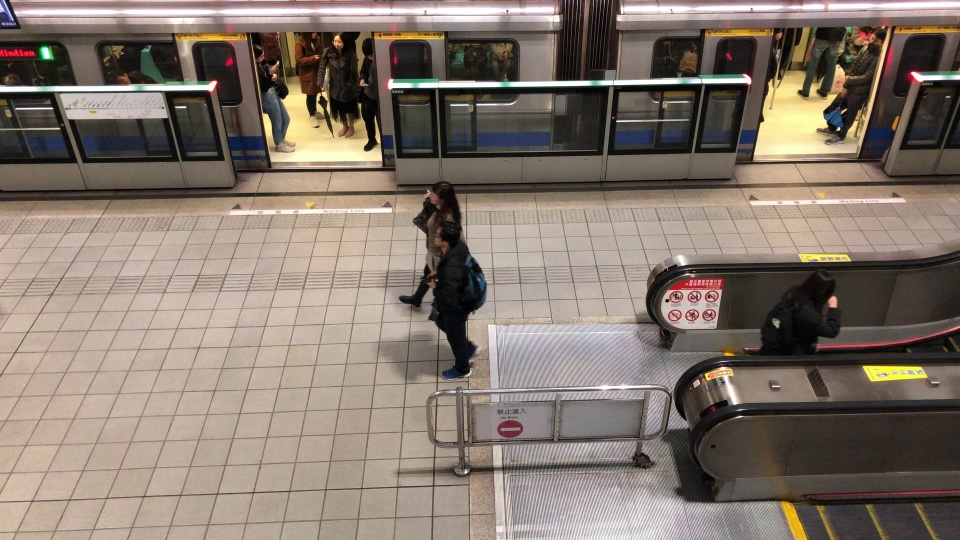person_head: (796, 269, 836, 309), (427, 178, 455, 211), (432, 221, 461, 251), (360, 35, 378, 63), (249, 41, 266, 66), (867, 27, 885, 48), (330, 33, 345, 53), (302, 28, 316, 41)
person_vbox: (424, 221, 488, 383), (392, 178, 470, 307), (814, 27, 887, 147), (756, 269, 841, 356), (246, 41, 297, 153), (313, 33, 361, 141), (354, 34, 390, 153), (794, 24, 838, 101), (291, 28, 325, 127)
